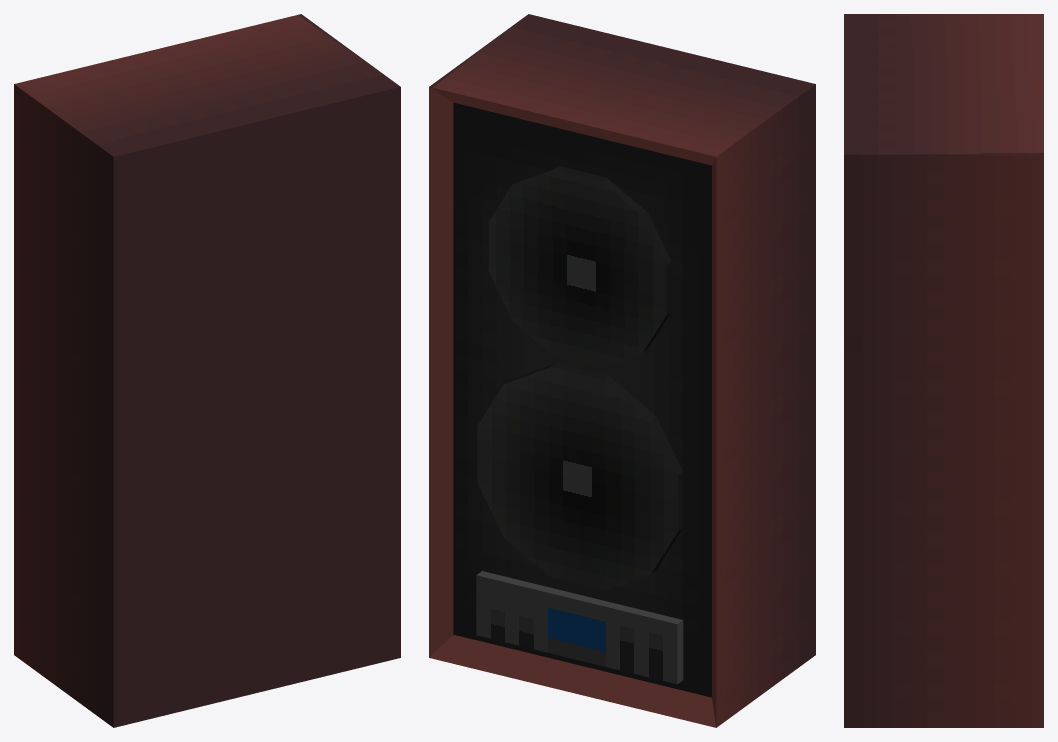
File: speaker.gltf
The picture shows the model from 3 angles, left to right: view 1: azimuth 30°, elevation 25°; view 2: azimuth 150°, elevation 25°; view 3: azimuth 270°, elevation 25°; orthographic projection.
Parts seen in each view (by area): view 1: cube; view 2: cube; view 3: cube.
Boxes of the visible parts, x1,y1,x2,y2 form: cube: (14,14,400,727); cube: (429,14,815,727); cube: (844,14,1043,727).
Bounding box in the file's own units: 0.625 × 1.19 × 0.375.
Materials: 1 (1 with a texture image).
